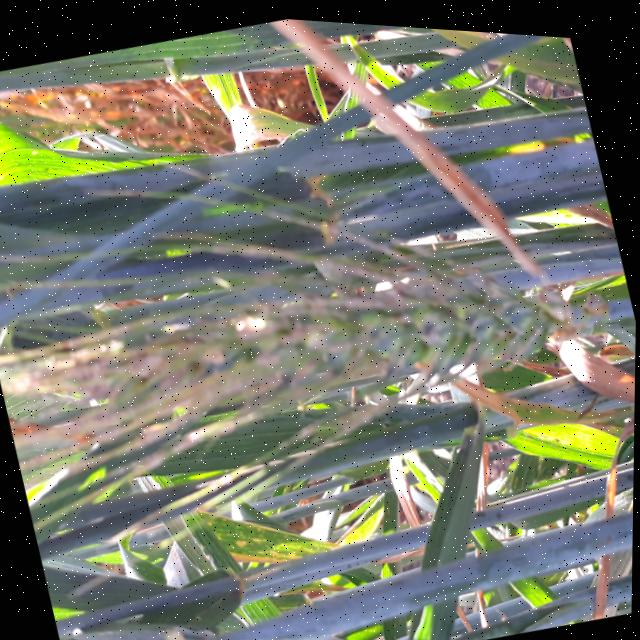powder_mildew: (0, 178, 638, 508), (184, 466, 357, 612), (497, 377, 633, 508)
